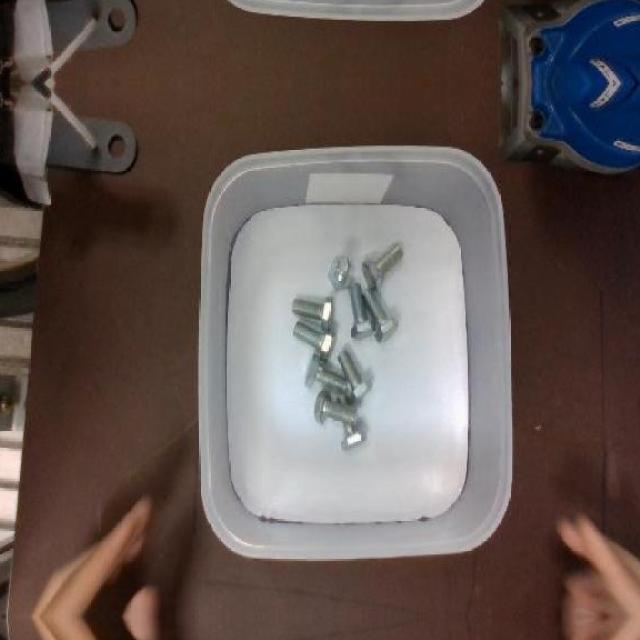screw: (362, 286, 399, 342), (361, 241, 403, 290), (338, 347, 372, 402), (292, 319, 337, 360), (313, 388, 359, 425), (304, 352, 346, 392), (349, 284, 377, 339), (291, 296, 333, 330), (328, 254, 353, 288)
